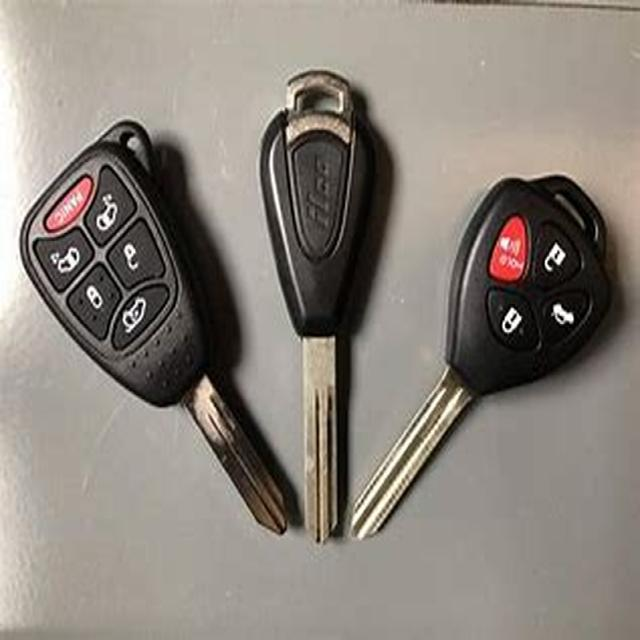key: (349, 158, 627, 582), (10, 117, 258, 562), (239, 51, 409, 505)
